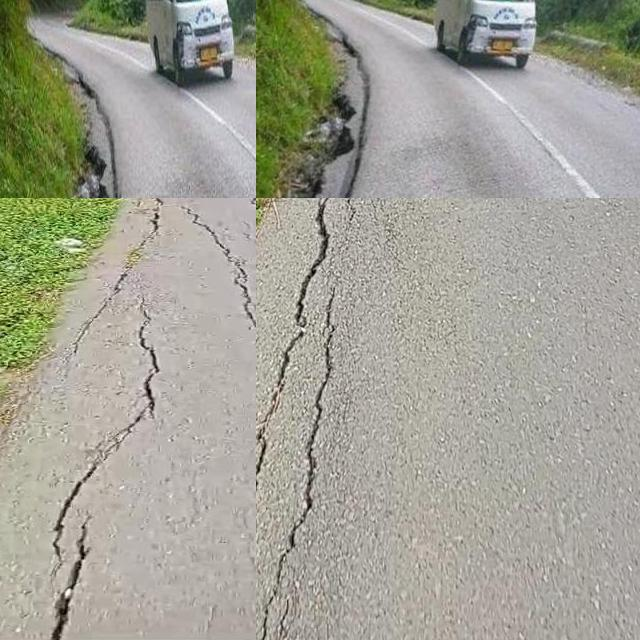Memanjang: (23, 299, 170, 640), (256, 198, 365, 640)
Pinggir: (294, 31, 376, 198), (58, 70, 131, 198)
